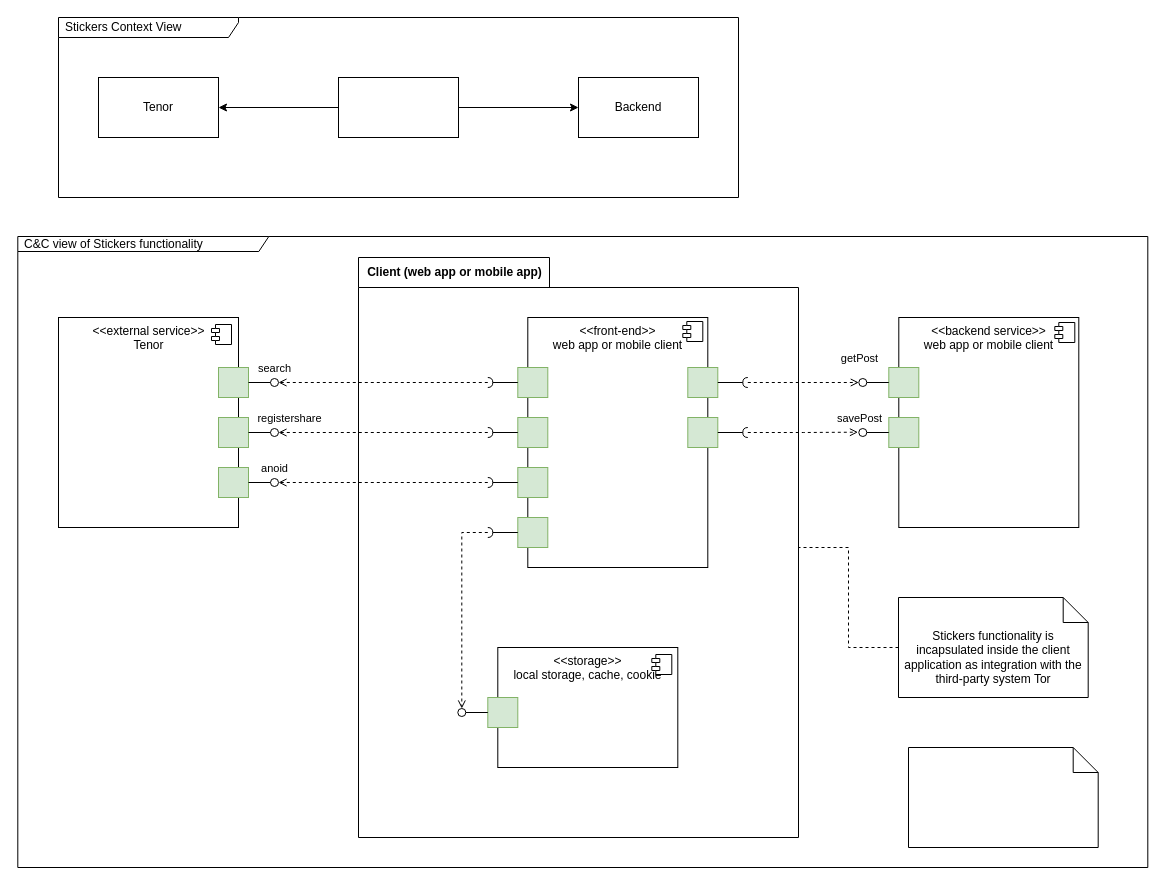
The diagram is 1165 pixels wide and 885 high, and some of its shapes have lost their labels. The shapes that lost their labels are listed below. From the top down, each one's centre as x and y in pixels, then its label:
At [398,107]: "Frontend: Web App, Mobile Client".
At [1003,797]: "Key: UML".
